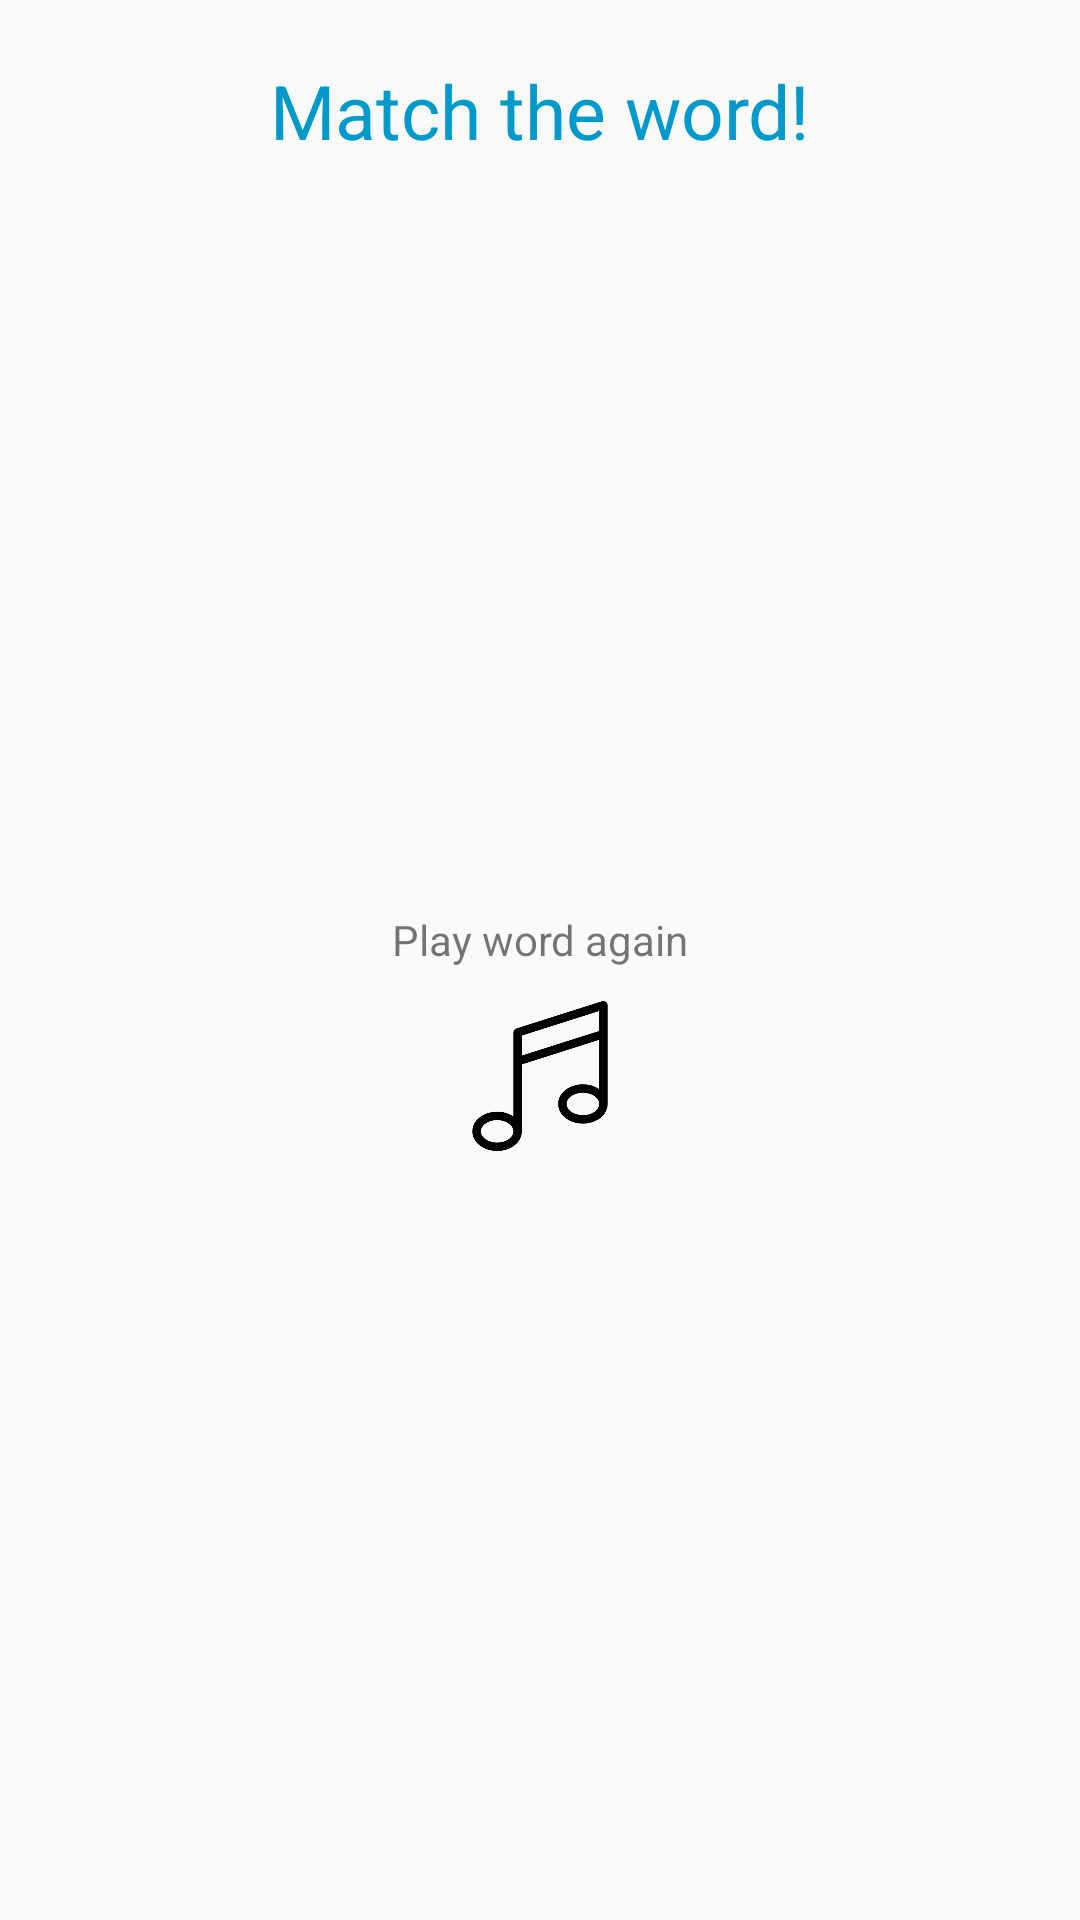

Icons on this 1080 × 1920 Android screen, each with its box as (x1, y1, x2, y2):
musical note: (472, 1001, 608, 1151)
